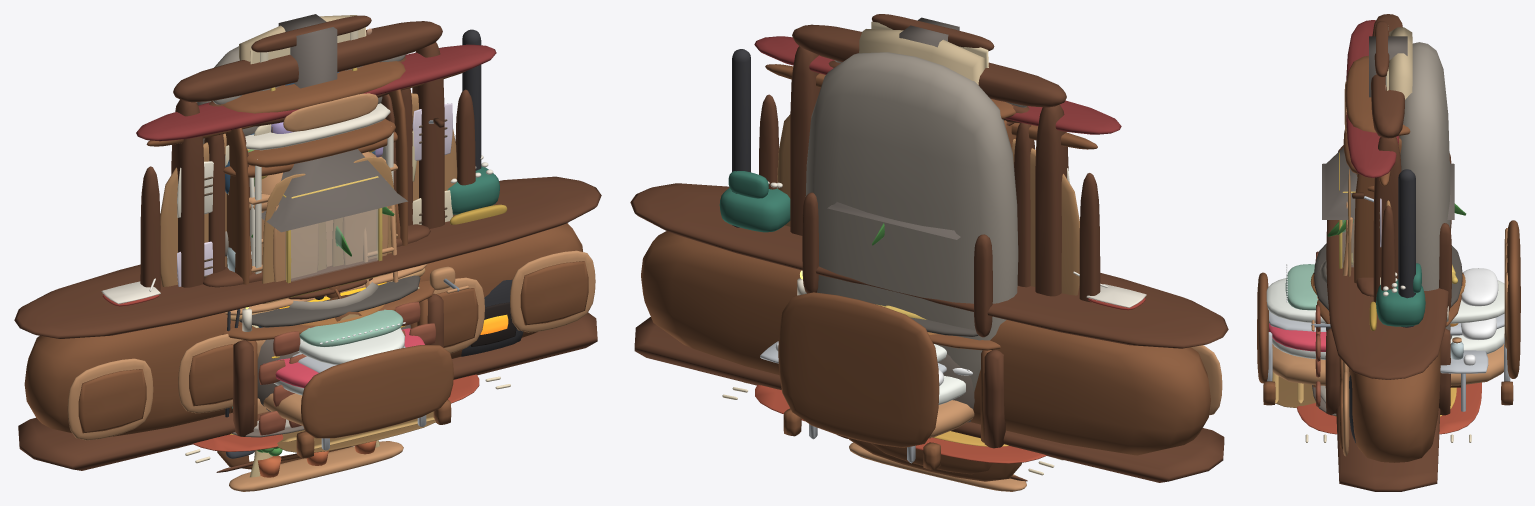
File: granja_muebles.glb
3 renders of one model, left to right at view 1: azimuth 30°, elevation 25°; view 2: azimuth 150°, elevation 25°; view 3: azimuth 270°, elevation 25°, orthographic. The views are drawn at different scales.
Visible parts, largest first — view 1: mostrador cubierta, mostrador cuerpo, piecera, mostrador zócalo, campana fragua, dintel, techito, vidrio y -1, jamba -1, estante corona, jamba 1, mostrador moldura 4 (+47 smaller); view 2: chimenea cuerpo, mostrador cuerpo, cabecera, mostrador cubierta, mostrador zócalo, jamba -1, dintel, tablero.001, jamba 1, techito, muro, poste tablón -1 (+20 smaller); view 3: mostrador cubierta, chimenea cuerpo, mostrador cuerpo, mostrador zócalo, campana fragua, techito, tubo estufa, jamba 1, cama marco, cabecera, colchón camilla, tapete (+25 smaller).
Part boxes in pixels (<box>): mostrador cubierta: <box>14,176,601,338</box>; mostrador cuerpo: <box>24,223,582,436</box>; piecera: <box>301,345,453,438</box>; mostrador zócalo: <box>18,312,597,470</box>; campana fragua: <box>261,14,407,232</box>; dintel: <box>173,21,442,102</box>; techito: <box>136,44,496,141</box>; vidrio y -1: <box>291,209,378,281</box>; jamba -1: <box>171,99,204,287</box>; estante corona: <box>223,61,405,113</box>; jamba 1: <box>412,42,444,228</box>; mostrador moldura 4: <box>520,261,588,325</box>; chimenea cuerpo: <box>805,52,1018,391</box>; mostrador cuerpo: <box>641,231,1210,455</box>; cabecera: <box>778,292,939,447</box>; mostrador cubierta: <box>630,183,1228,348</box>; mostrador zócalo: <box>634,317,1224,482</box>; jamba -1: <box>1035,104,1068,296</box>; dintel: <box>792,24,1066,107</box>; tablero.001: <box>777,114,1079,295</box>; jamba 1: <box>790,46,820,235</box>; techito: <box>754,36,1121,134</box>; muro: <box>859,29,985,84</box>; poste tablón -1: <box>1079,173,1100,302</box>; mostrador cubierta: <box>1326,145,1448,379</box>; chimenea cuerpo: <box>1399,42,1450,328</box>; mostrador cuerpo: <box>1349,347,1440,462</box>; mostrador zócalo: <box>1336,406,1440,491</box>; campana fragua: <box>1322,36,1454,219</box>; techito: <box>1346,20,1399,177</box>; tubo estufa: <box>1398,169,1415,327</box>; jamba 1: <box>1373,137,1401,302</box>; cama marco: <box>1272,344,1504,385</box>; cabecera: <box>1506,220,1520,378</box>; colchón camilla: <box>1266,278,1504,323</box>; tapete: <box>1297,382,1481,434</box>.
Bounding box in the file's own units: 4.8 × 3.52 × 2.11.
